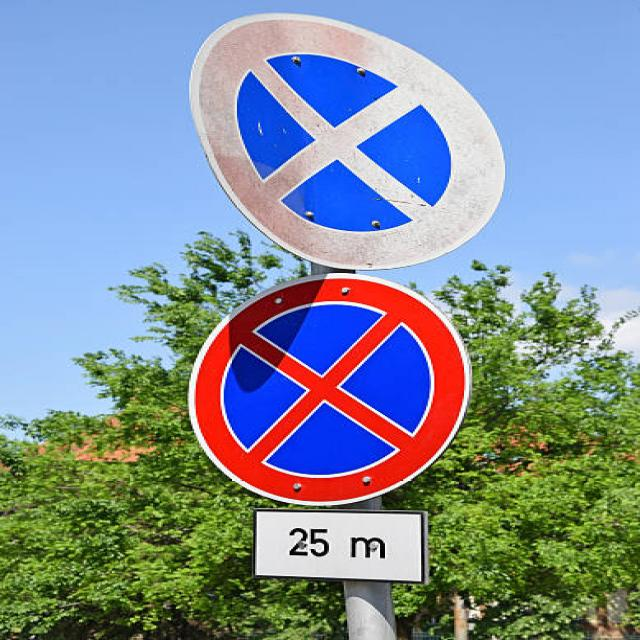no_parking: (172, 272, 481, 510)
